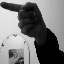g: (1, 1, 47, 39)
